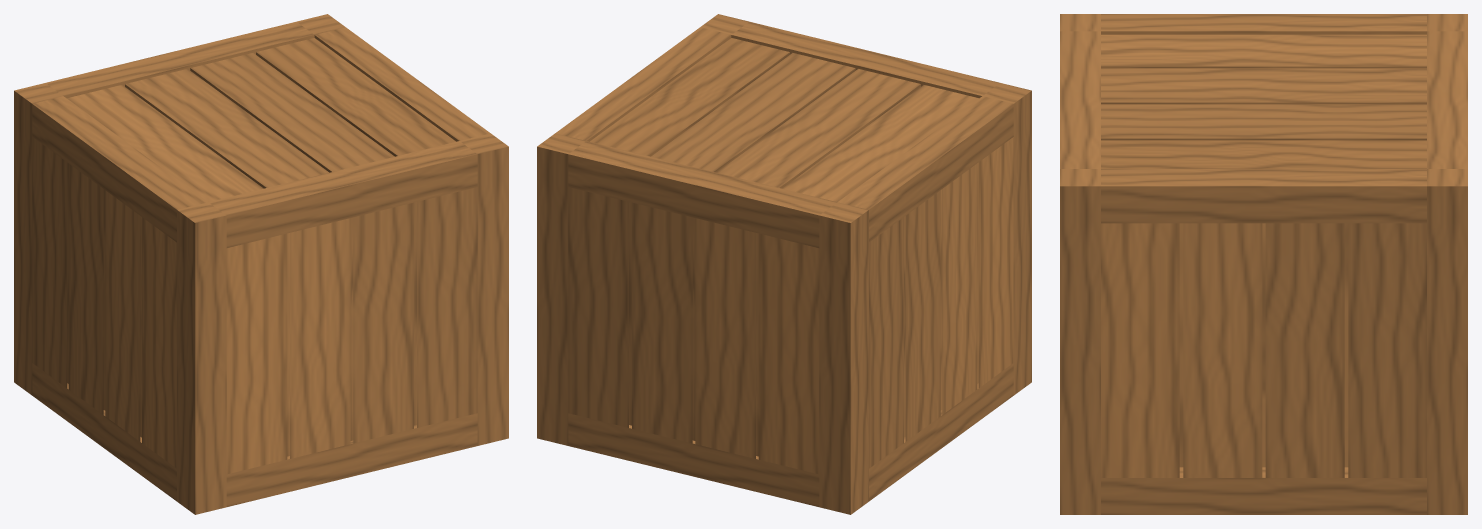
The model's file is FMS_Crate_Framed_Closed.fbx.
The picture shows the model from 3 angles, left to right: view 1: azimuth 30°, elevation 25°; view 2: azimuth 150°, elevation 25°; view 3: azimuth 270°, elevation 25°; orthographic projection. The views are drawn at different scales.
Visible parts, largest first — view 1: item_stalls_crate_framed_closed; view 2: item_stalls_crate_framed_closed; view 3: item_stalls_crate_framed_closed.
Part boxes in pixels (x1,y1,x2,y2): item_stalls_crate_framed_closed: (14, 14, 508, 514); item_stalls_crate_framed_closed: (537, 14, 1031, 514); item_stalls_crate_framed_closed: (1060, 14, 1467, 514).
Bounding box in the file's own units: 0.45 × 0.4 × 0.45.
